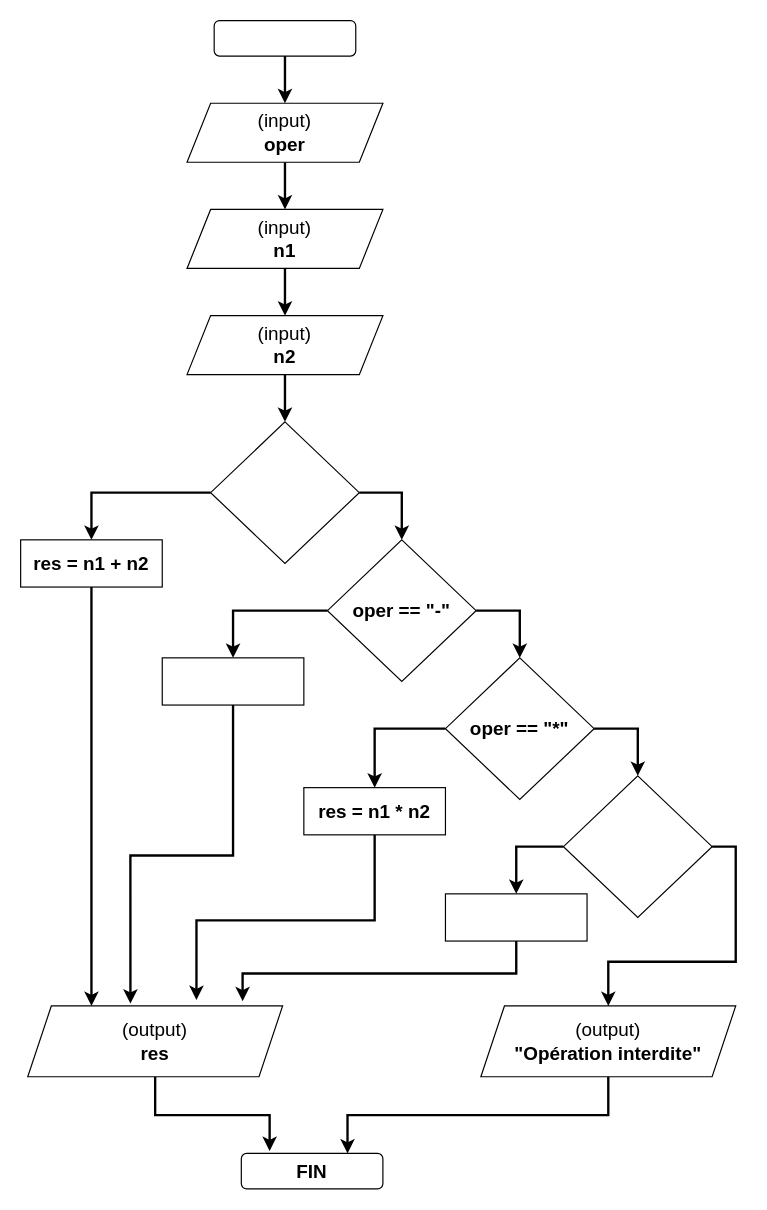
The diagram is 767 pixels wide and 1210 high, and some of its shapes have lost their labels. The shapes that lost their labels are listed below. From the top down, each one's box as (x1, y1, x2, y2) in pixels, then its label:
(213, 19, 356, 56): DEBUT
(209, 421, 359, 563): oper == "+"
(161, 657, 304, 705): res = n1 - n2
(562, 775, 712, 917): oper == "/"
(444, 893, 587, 941): res = n1 / n2
